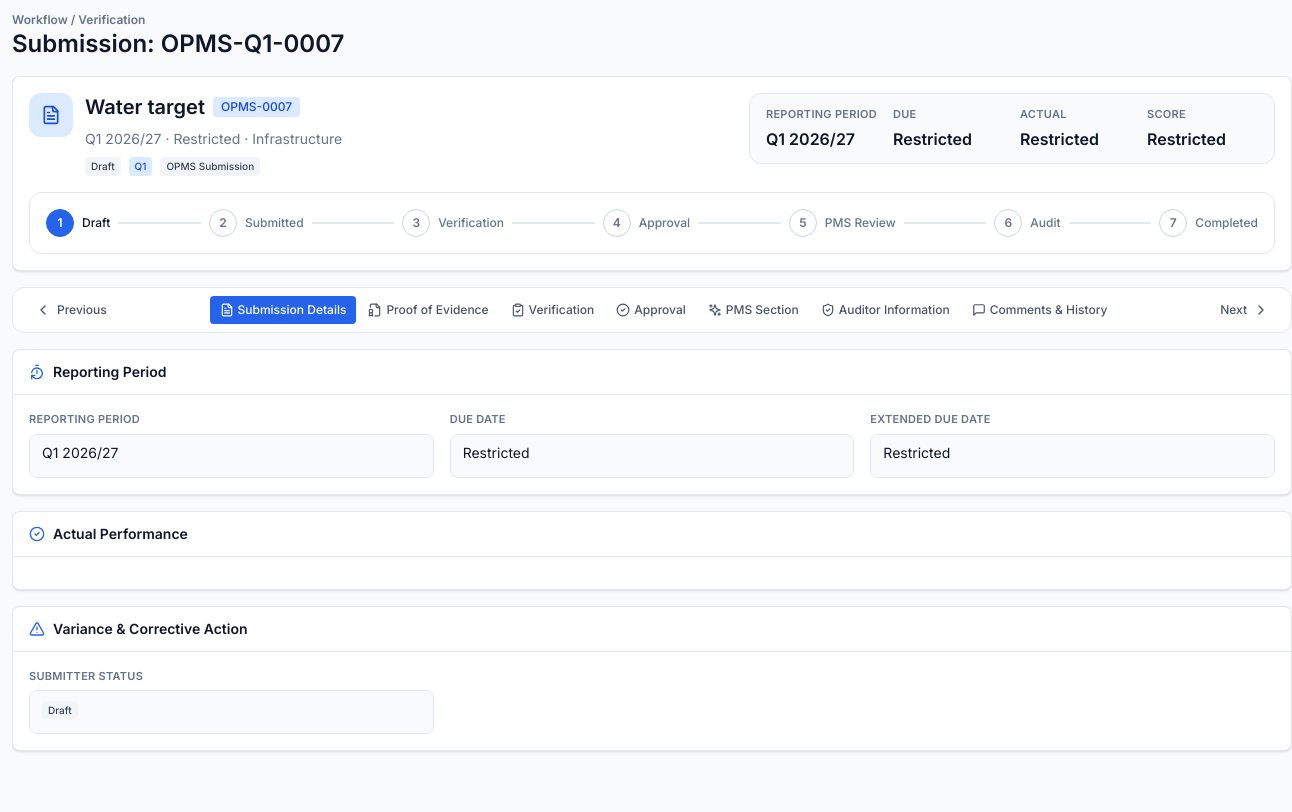
Test: SubmissionWorkspace member security › loads evidence from the bounded register and navigates authoritative pages
Click the tab "Proof of Evidence". click: {"x": 428, "y": 310}
box: [358,296,499,324]
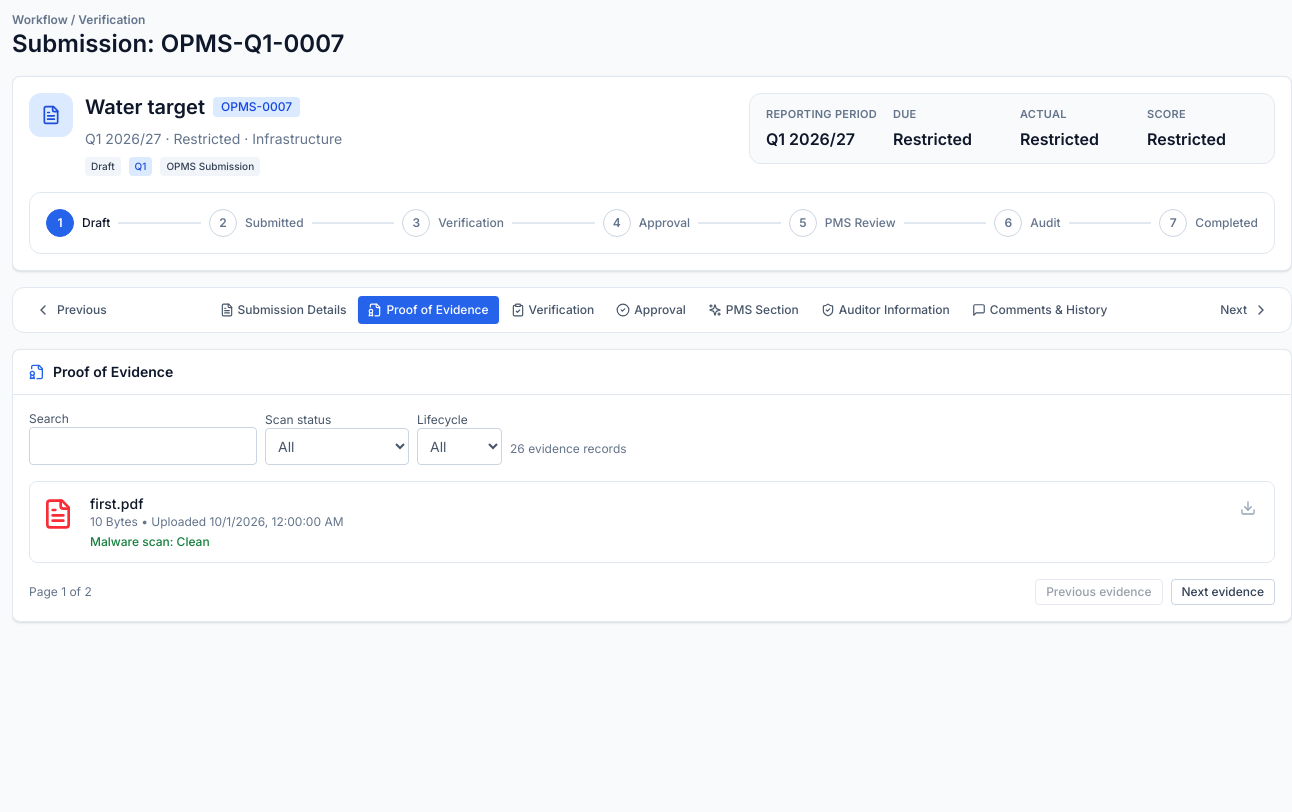
Now the text "first.pdf" is shown, box [90,495,144,512]
Now the text "26 evidence records" is shown, box [510,441,627,465]
Click the button "Next evidence". click: {"x": 1223, "y": 592}
box: [1170,579,1275,605]
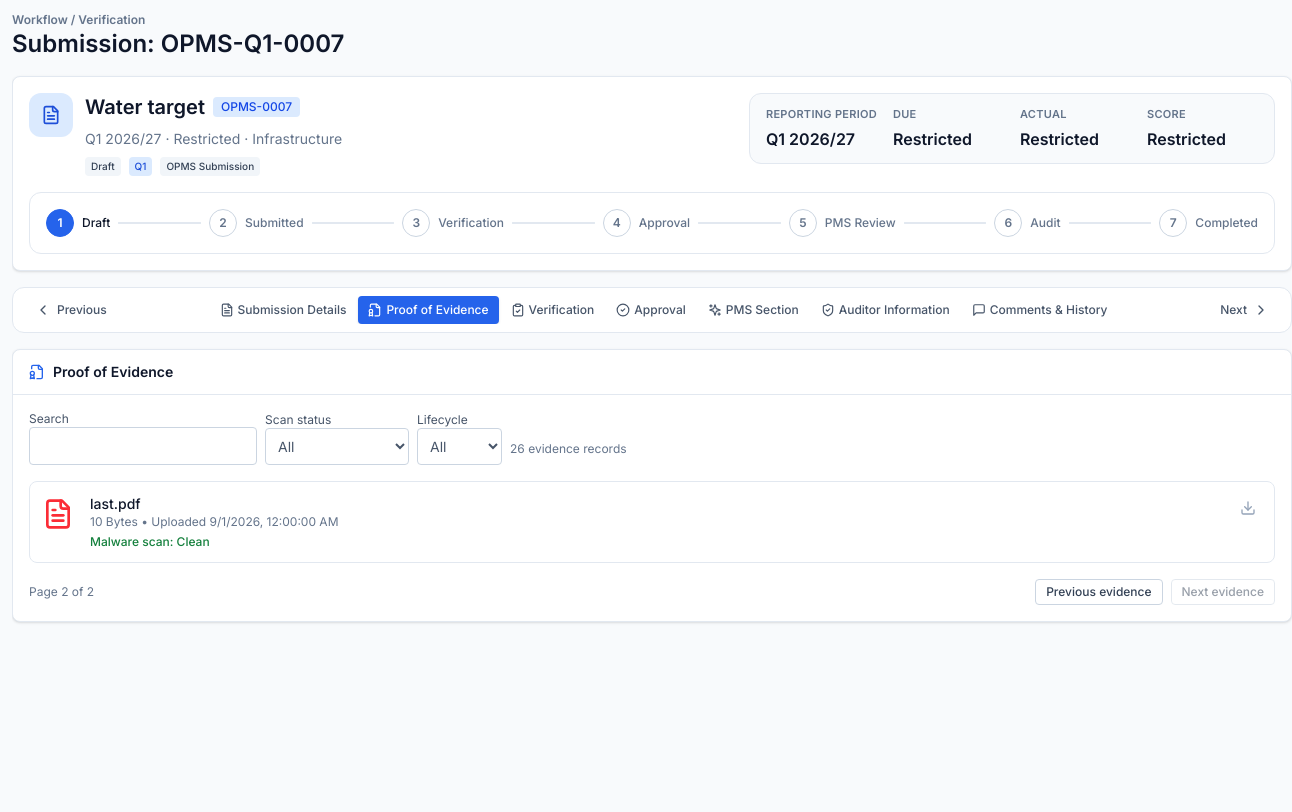
Now the text "last.pdf" is shown, box [90,495,141,512]
